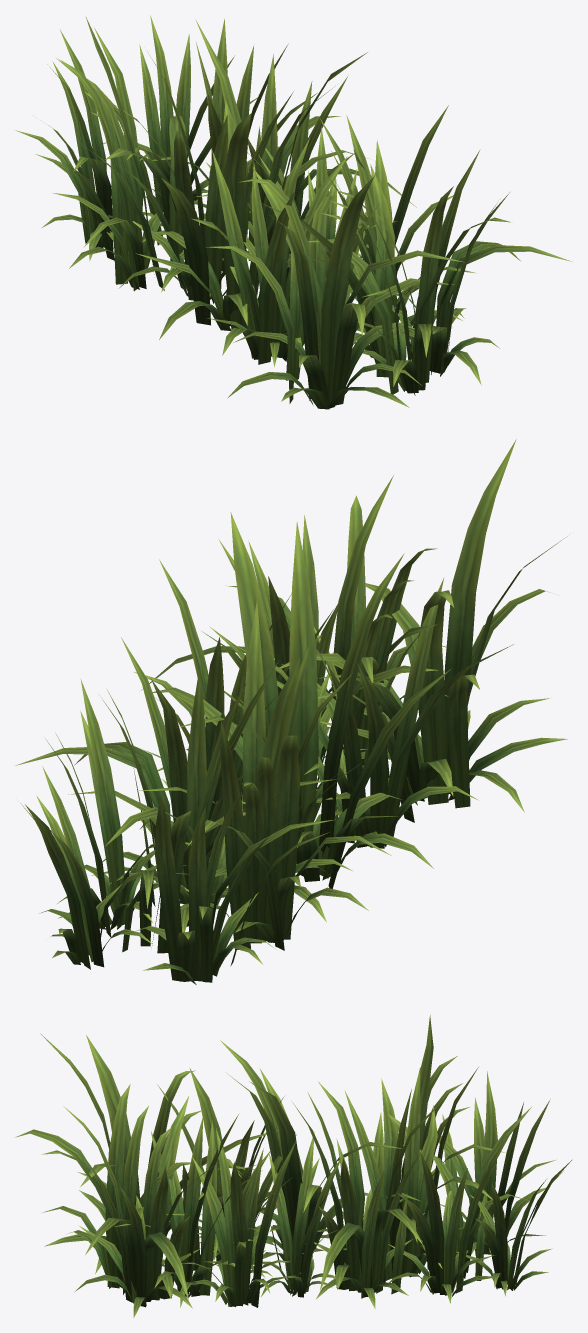
File: fb0_caocong_01.FBX
3 renders of one model, top to bottom at view 1: azimuth 30°, elevation 25°; view 2: azimuth 150°, elevation 25°; view 3: azimuth 270°, elevation 25°, orthographic. The views are drawn at different scales.
Visible parts, largest first — view 1: FB0_caocong_1; view 2: FB0_caocong_1; view 3: FB0_caocong_1.
Part boxes in pixels (<box>): FB0_caocong_1: <box>15,15,572,409</box>; FB0_caocong_1: <box>15,439,567,984</box>; FB0_caocong_1: <box>15,1015,572,1317</box>.
Bounding box in the file's own units: 49981 × 39406 × 89636.
